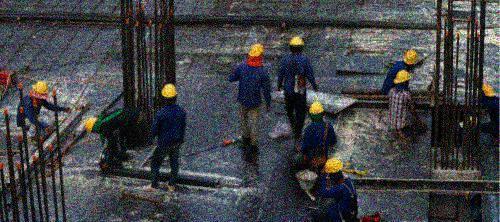helmet: (31, 81, 51, 102), (160, 83, 178, 106), (247, 43, 266, 64), (308, 100, 325, 121), (393, 68, 410, 89), (479, 83, 496, 102), (83, 116, 101, 133), (289, 36, 305, 54), (403, 49, 419, 65)
